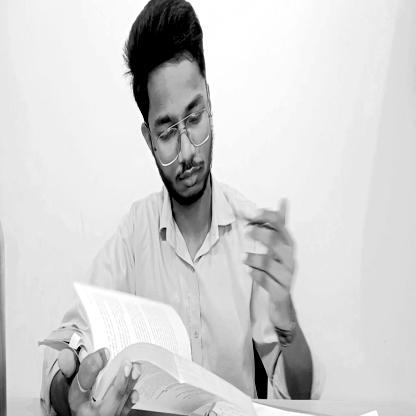Distracted: (124, 0, 217, 215)
